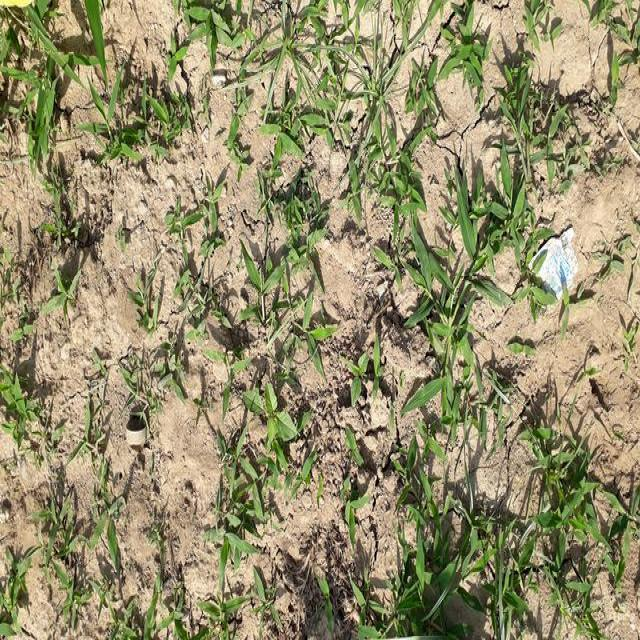weed: (406, 412, 629, 640), (349, 113, 510, 399), (215, 226, 319, 560), (0, 5, 173, 192)
